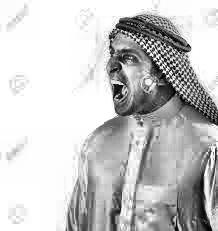angry: (100, 19, 173, 124)
